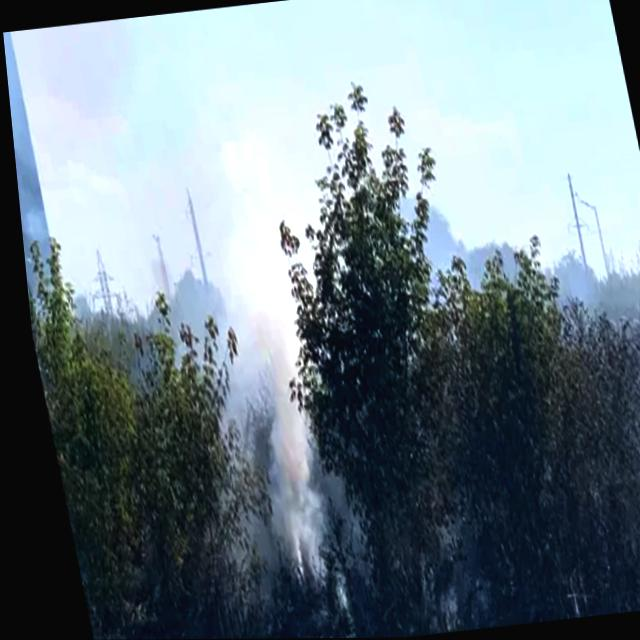Smoke: (151, 151, 365, 567)
